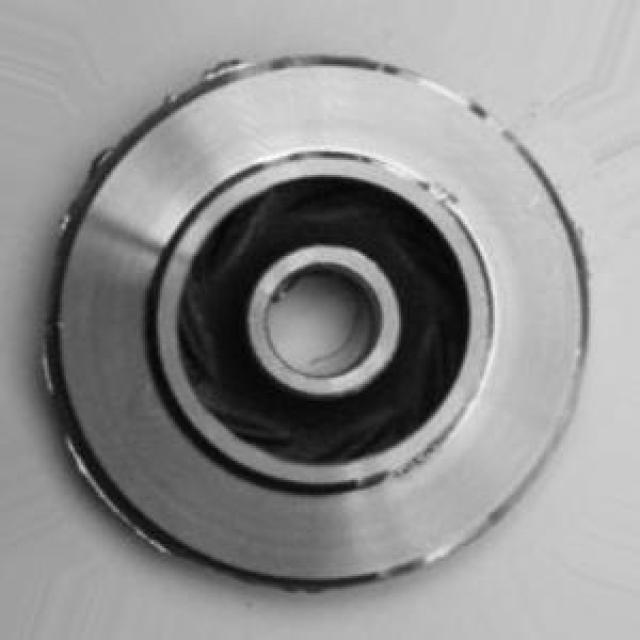Defect: (194, 56, 258, 83)
